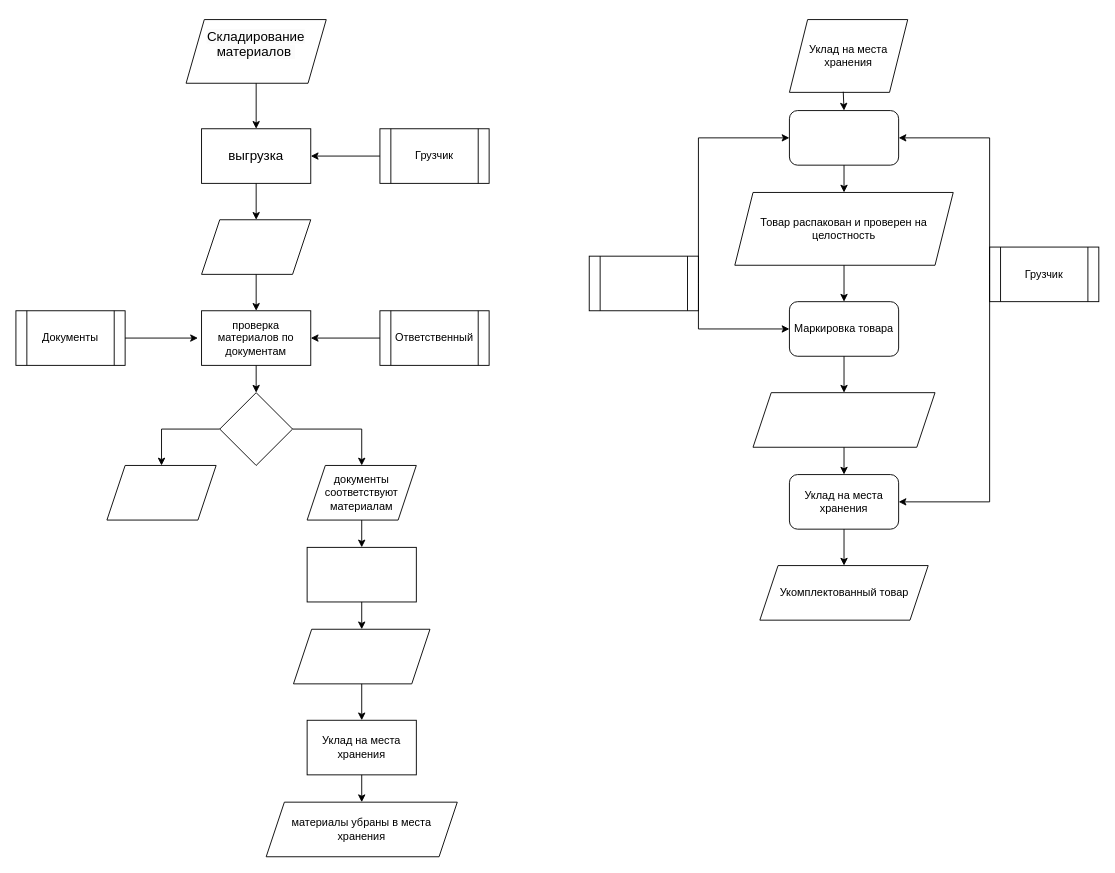
Some shapes in this 1115 by 873 pixel diagram are drawn without their labels. The centre of each missing label's shape, as x and y in pixels:
выгруженный материал: (x=256, y=246)
документы не соответствуют материалам: (x=161, y=492)
менеджер: (x=643, y=283)
подписание договора: (x=361, y=574)
подписанный договор: (x=361, y=656)
Промаркированный товар: (x=843, y=419)
Распаковать: (x=844, y=137)
